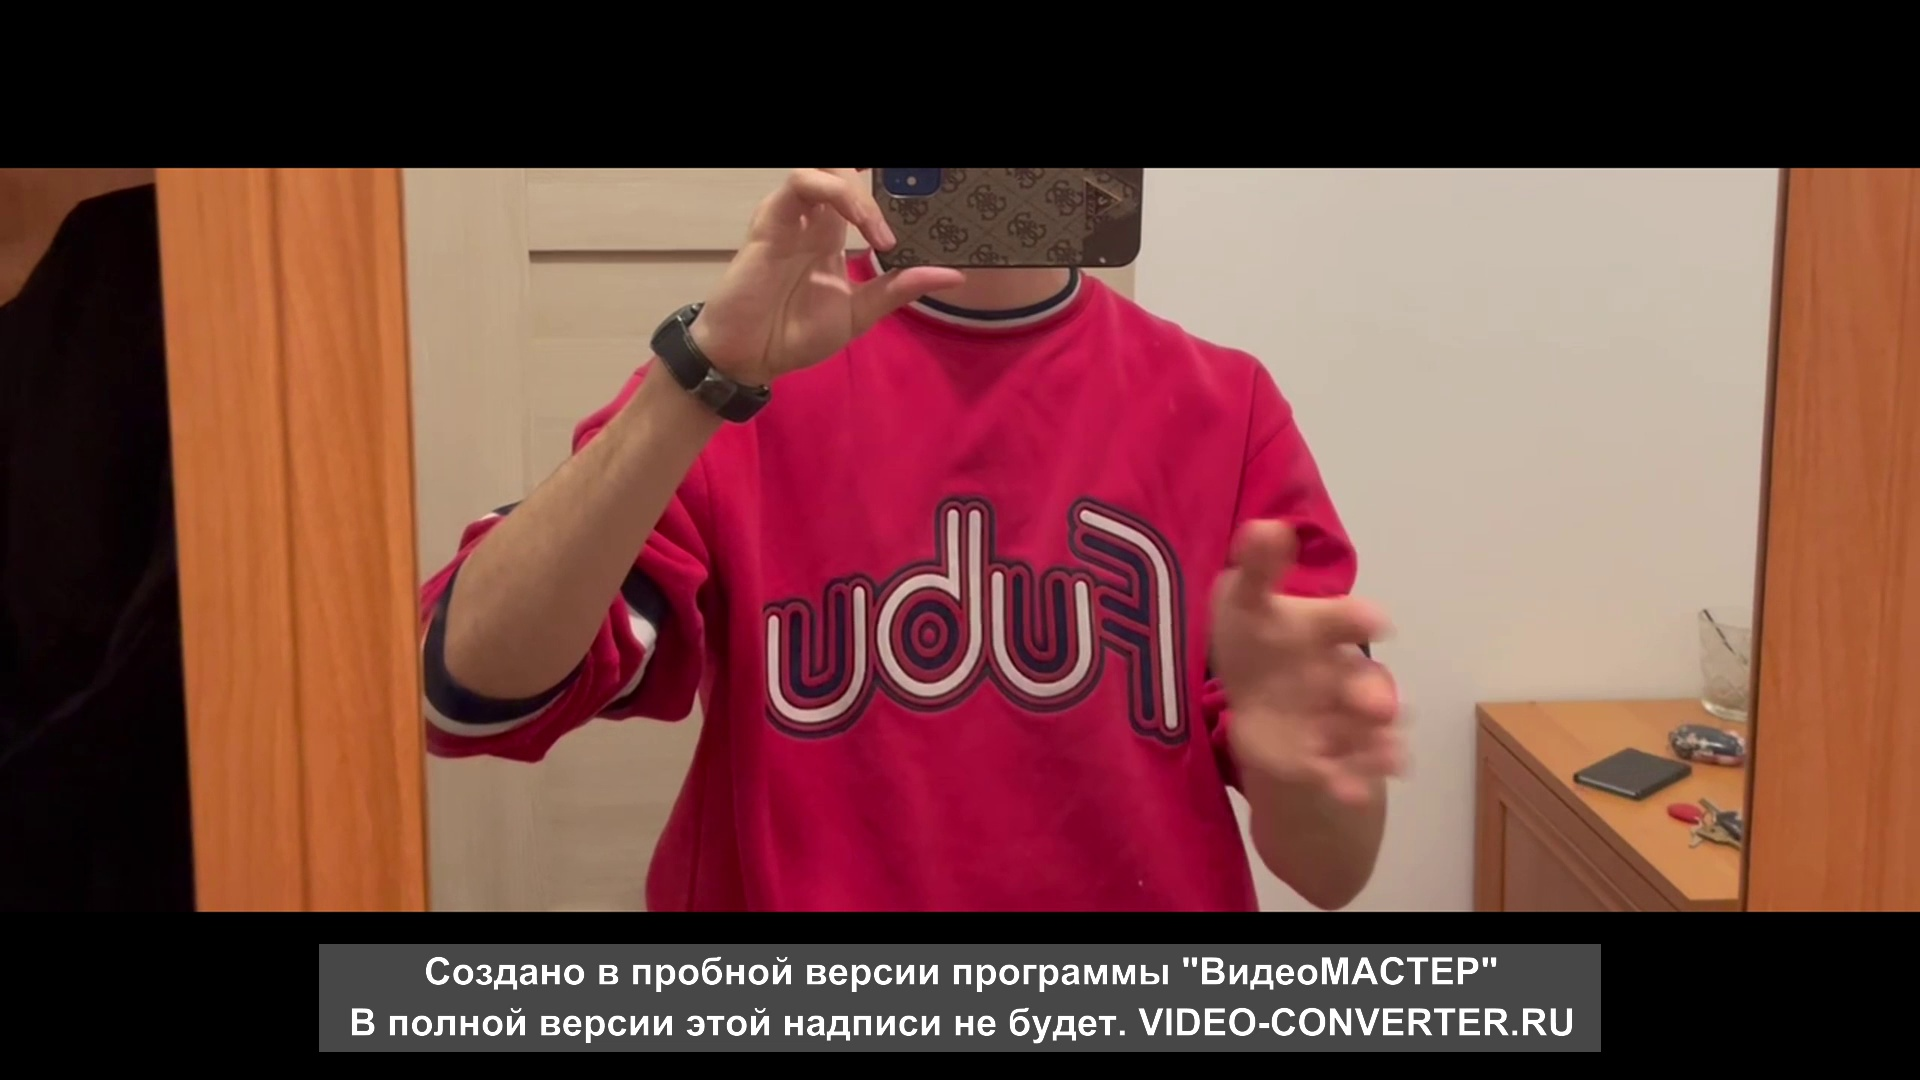Ладонь: (1209, 517, 1411, 810)
